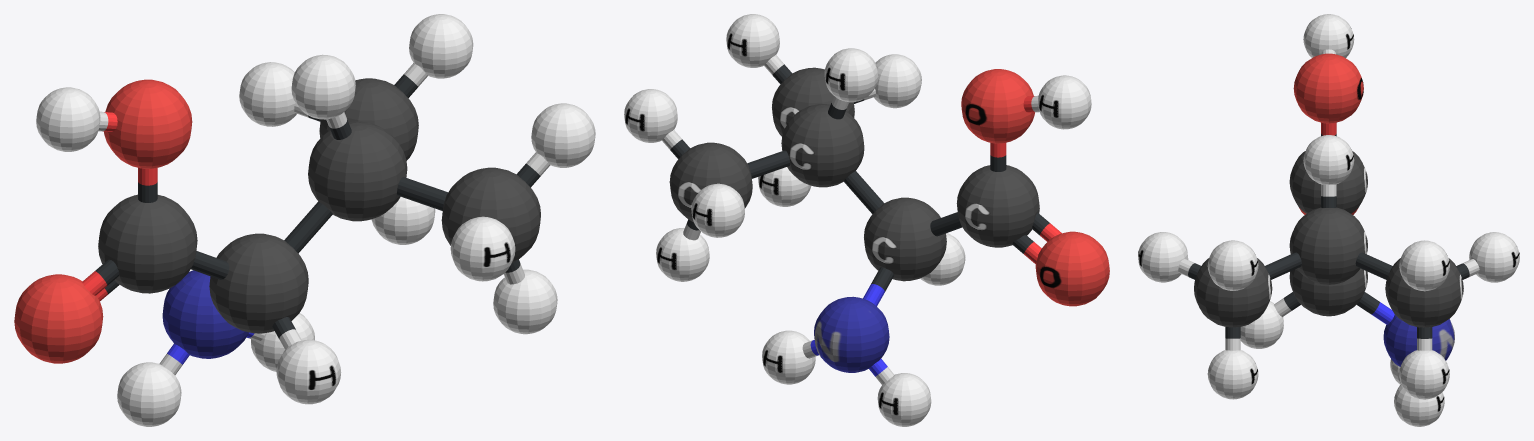
The model's file is Valina.fbx.
3 renders of one model, left to right at view 1: azimuth 30°, elevation 25°; view 2: azimuth 150°, elevation 25°; view 3: azimuth 270°, elevation 25°, orthographic. The views are drawn at different scales.
Parts seen in each view (by area): view 1: Valina; view 2: Valina; view 3: Valina.
Part boxes in pixels (x1,y1,x2,y2): Valina: (14,14,595,426); Valina: (624,14,1109,426); Valina: (1138,14,1519,426).
Size of the model in its own units: 17.99 by 13.72 by 14.88.
8 materials, 4 textured.
